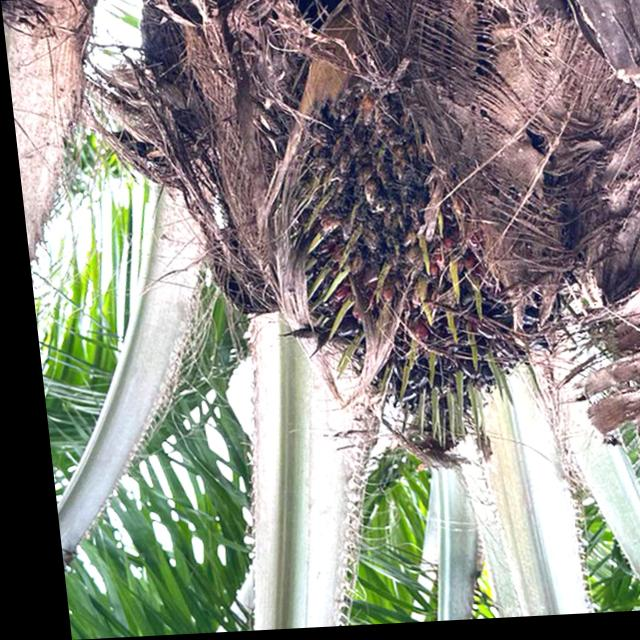unripe: (265, 38, 541, 463)
